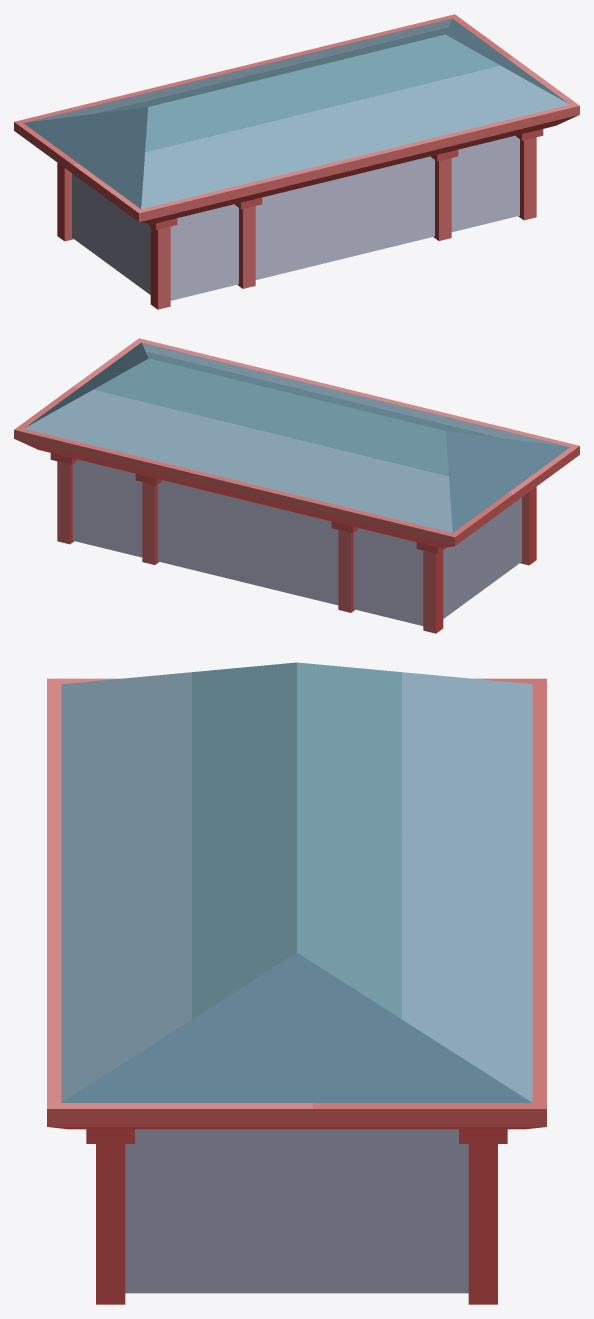
Rendered from house_bg_a.fbx.
The picture shows the model from 3 angles, top to bottom: view 1: azimuth 30°, elevation 25°; view 2: azimuth 150°, elevation 25°; view 3: azimuth 270°, elevation 25°; orthographic projection. The views are drawn at different scales.
Visible parts, largest first — view 1: house_bg_a; view 2: house_bg_a; view 3: house_bg_a.
Part boxes in pixels (x1,y1,x2,y2): house_bg_a: (14,14,579,309); house_bg_a: (14,338,579,633); house_bg_a: (47,662,546,1304).
Bounding box in the file's own units: 9 × 3.04 × 4.42.
1 material, 1 textured.
